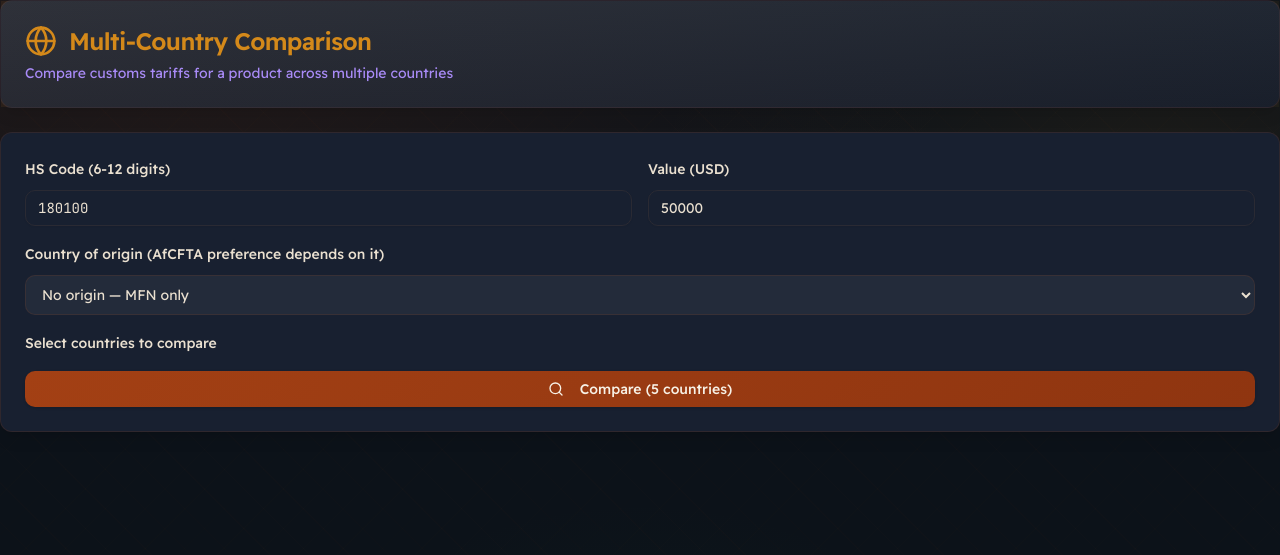
Test case: MultiCountryComparison › invite une seule fois à souscrire quand les calculs gratuits du mois sont épuisés
The width and height of the screenshot is (1280, 555).
Click the button with test id "compare-button" at (640, 389), box x1=25 y1=371 x2=1255 y2=407
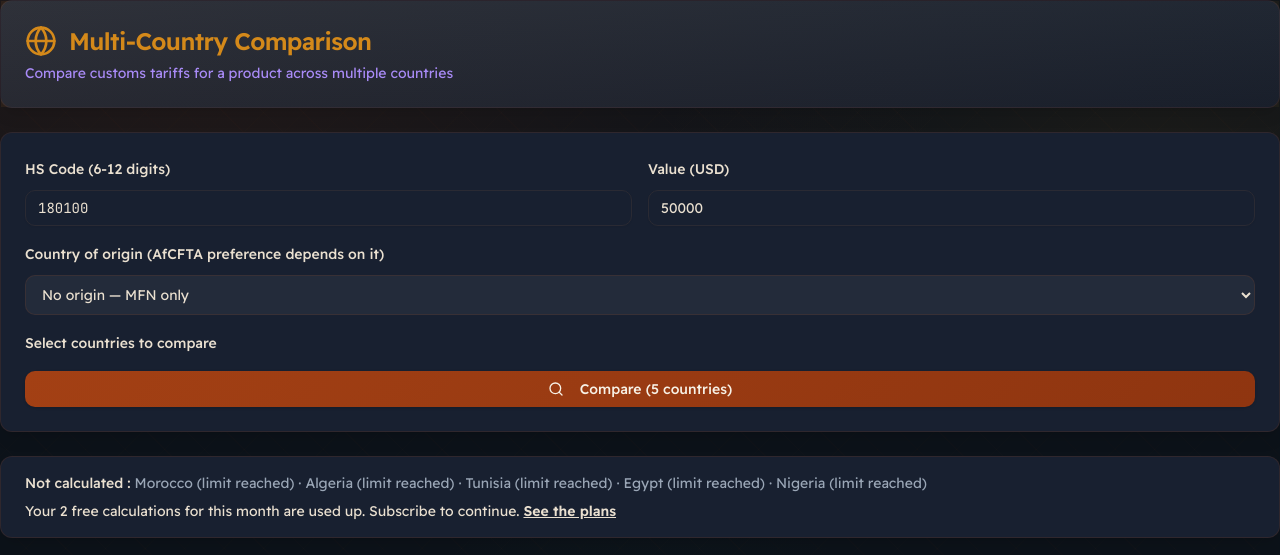
Expected: the element with test id "compare-echecs" shows "limit reached", x1=135 y1=474 x2=927 y2=492
Expected: the number of elements with test id "subscription-notice" is 1, x1=25 y1=502 x2=616 y2=520
Expected: the element with test id "subscription-notice" shows "Your 2 free calculations for this month are used up. Subscribe to continue.", x1=25 y1=502 x2=520 y2=520
